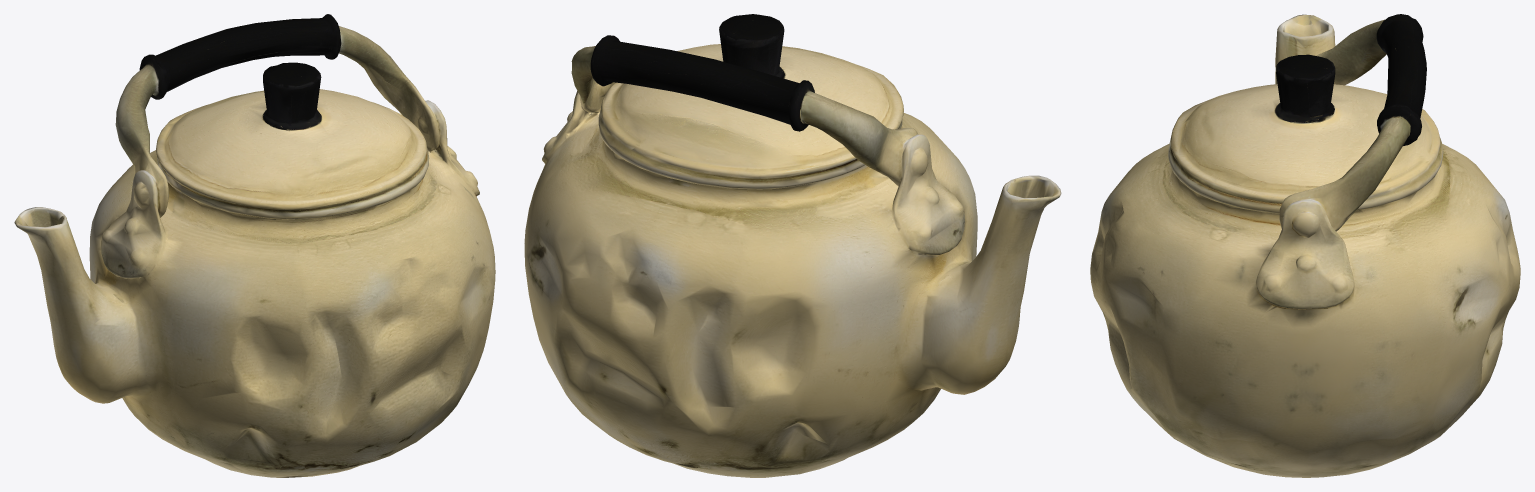
File: bottle.fbx
The picture shows the model from 3 angles, left to right: view 1: azimuth 30°, elevation 25°; view 2: azimuth 150°, elevation 25°; view 3: azimuth 270°, elevation 25°; orthographic projection. The views are drawn at different scales.
Visible parts, largest first — view 1: Mesh_0.001; view 2: Mesh_0.001; view 3: Mesh_0.001.
Boxes of the visible parts, bbox=[...] form: Mesh_0.001: bbox=[14, 14, 495, 477]; Mesh_0.001: bbox=[524, 14, 1061, 477]; Mesh_0.001: bbox=[1090, 14, 1520, 477].
Size of the model in its own units: 191 by 150 by 155.
1 material, 1 textured.
